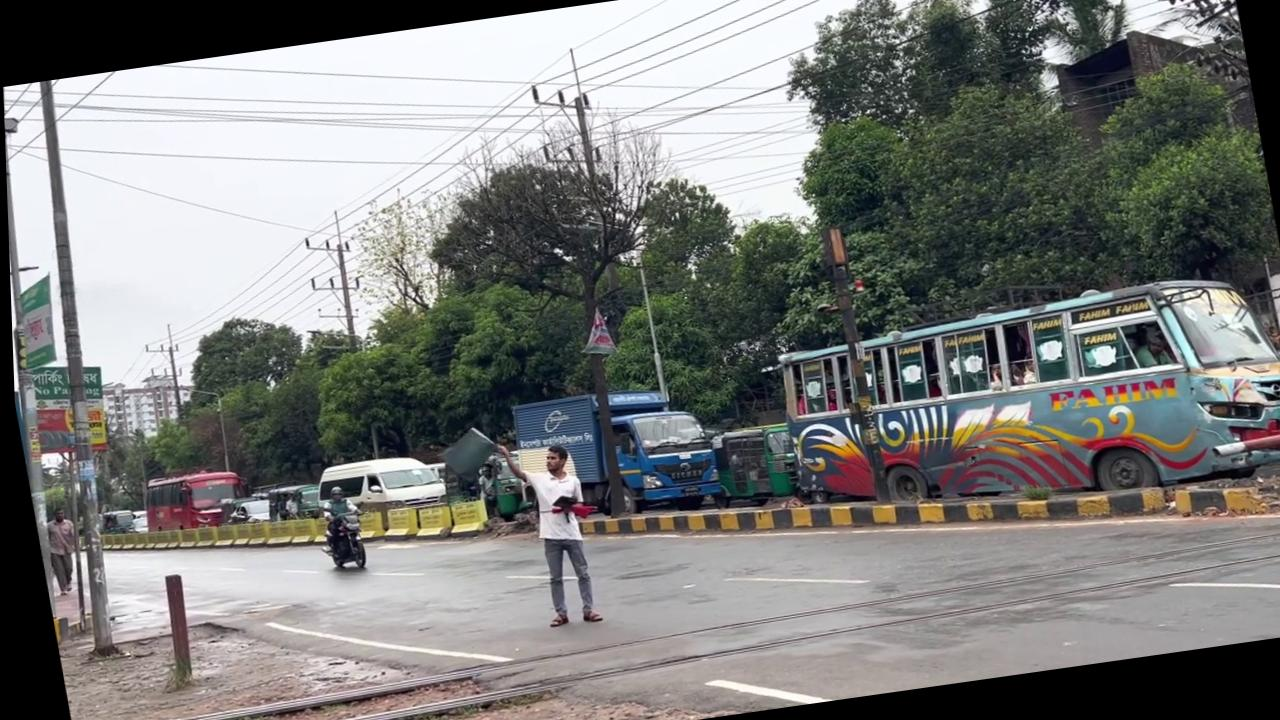Car: (567, 411, 1280, 618)
Curb: (311, 503, 366, 573)
Fence: (488, 430, 601, 631), (36, 505, 81, 596), (313, 482, 363, 554), (469, 463, 497, 519)
Garbage: (2, 79, 147, 656), (3, 86, 96, 618), (817, 224, 889, 505), (633, 264, 666, 405)
Motorcycle: (57, 515, 1280, 720)
Rickshaw: (762, 261, 1280, 542), (503, 376, 723, 532)
